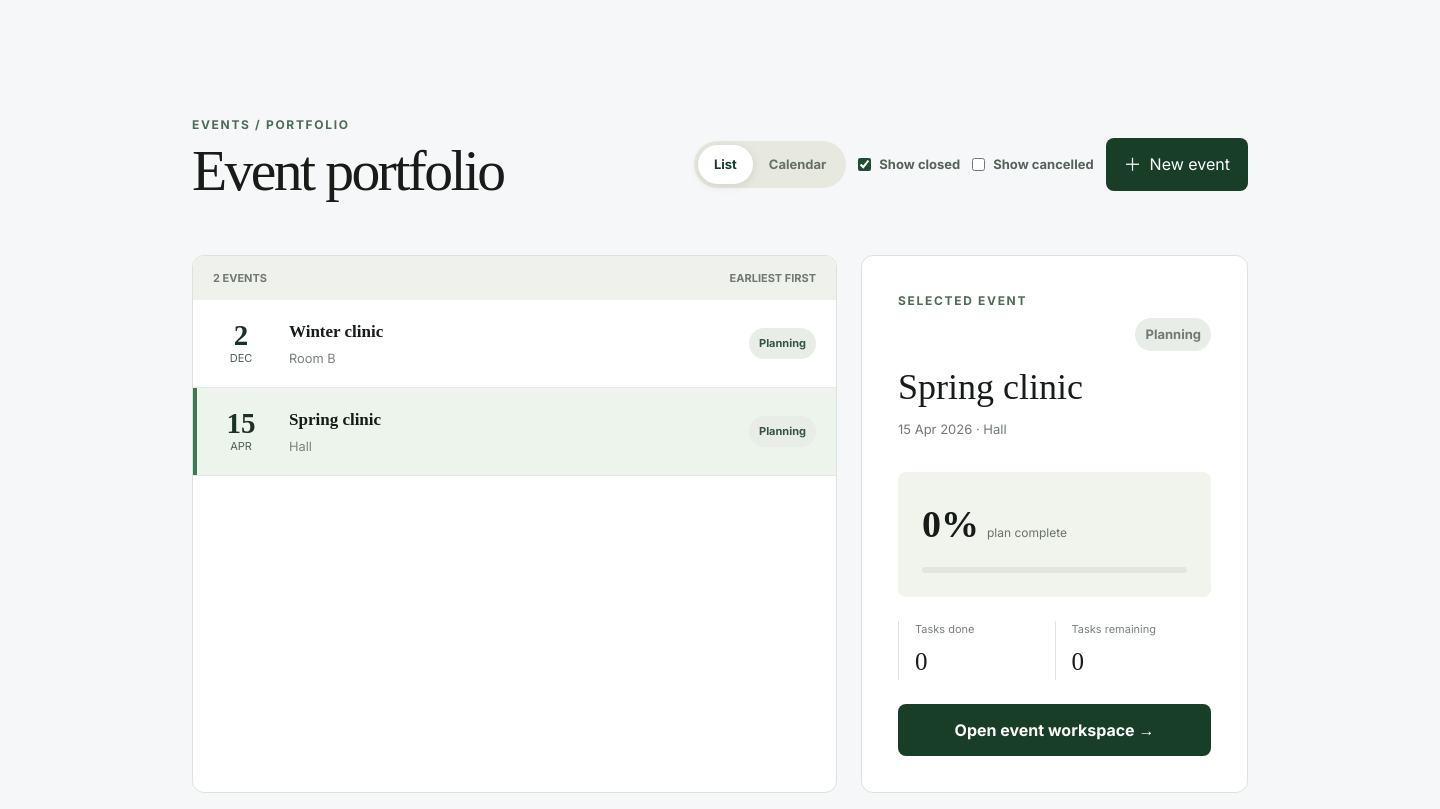
Test: API-backed organizer events › uses the production calendar for API-backed Events instead of the prototype demo window
The width and height of the screenshot is (1440, 809).
What coordinates should you click on to do the following:
click the button "Calendar"
I would click on:
 (798, 164)
Its box is [753,144,842,184].
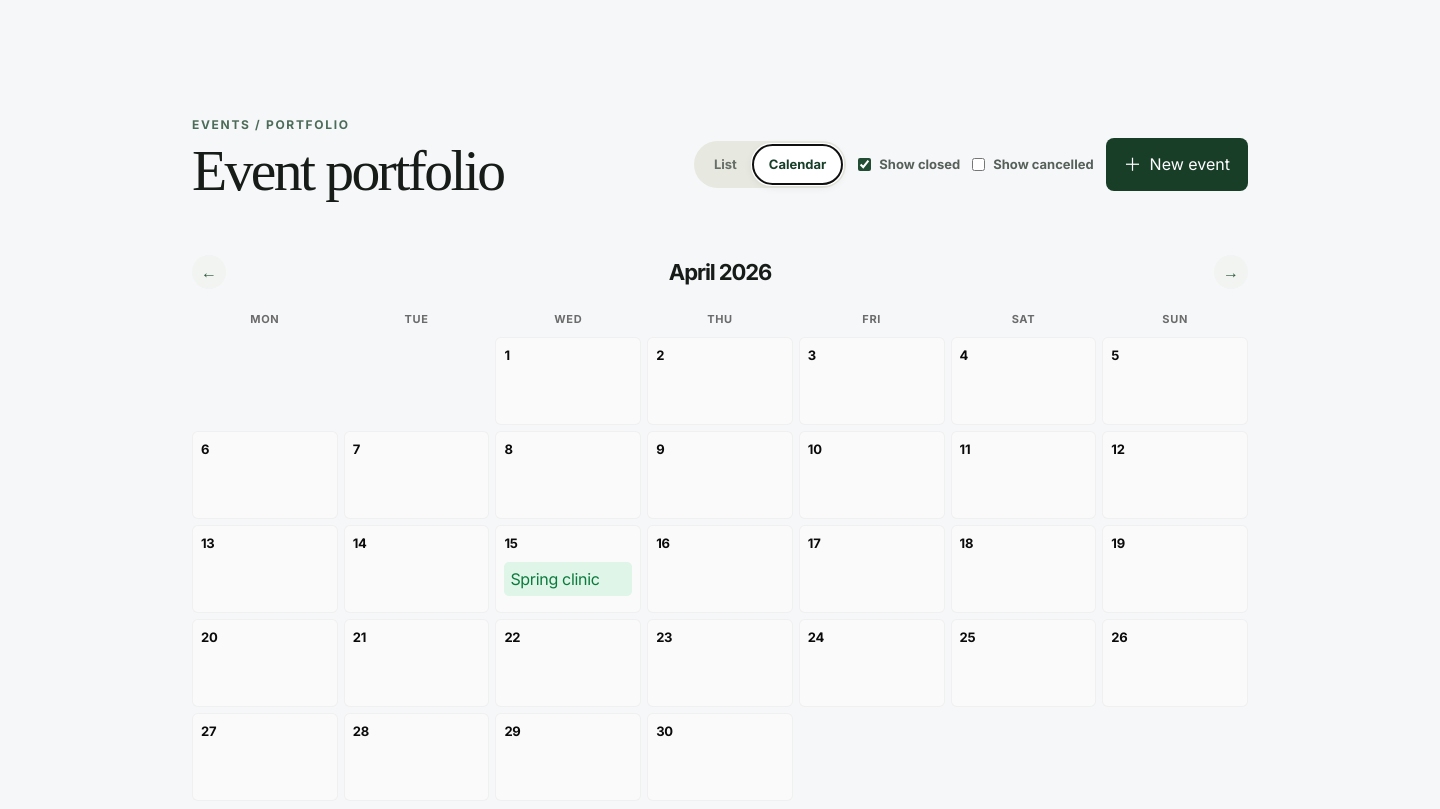
Expected: the button "Spring clinic" is shown, [504,562,632,596]
Expected: the heading "April 2026" is shown, [669,261,771,283]
What coordinates should you click on to do the following:
click the button named "Next month"
I would click on:
 (1231, 272)
Its box is [1214,255,1248,289].
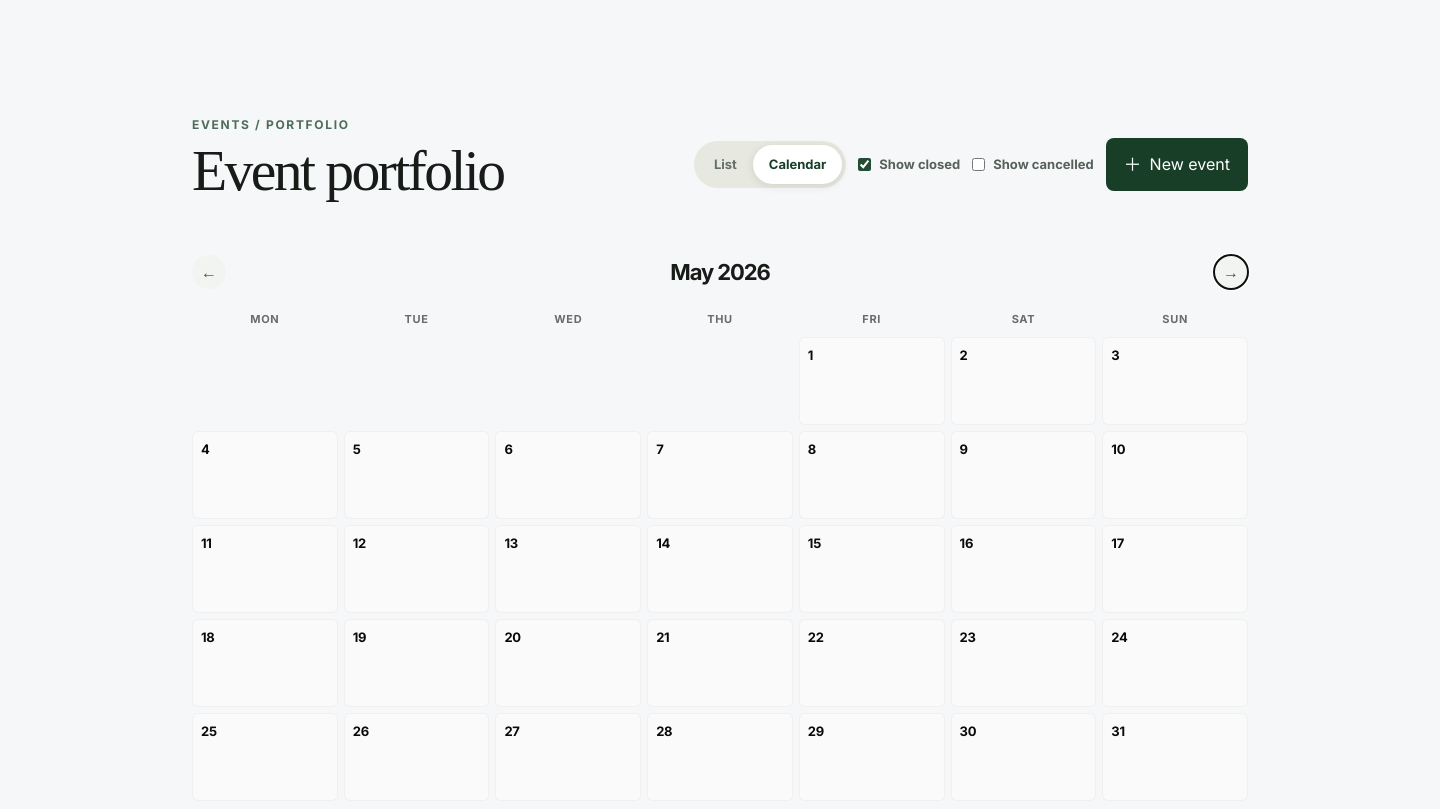
Expected: the heading "May 2026" is shown, [670,261,770,283]
What coordinates should you click on to do the following:
click the button named "Previous month"
I would click on:
 (209, 272)
Its box is [192,255,226,289].
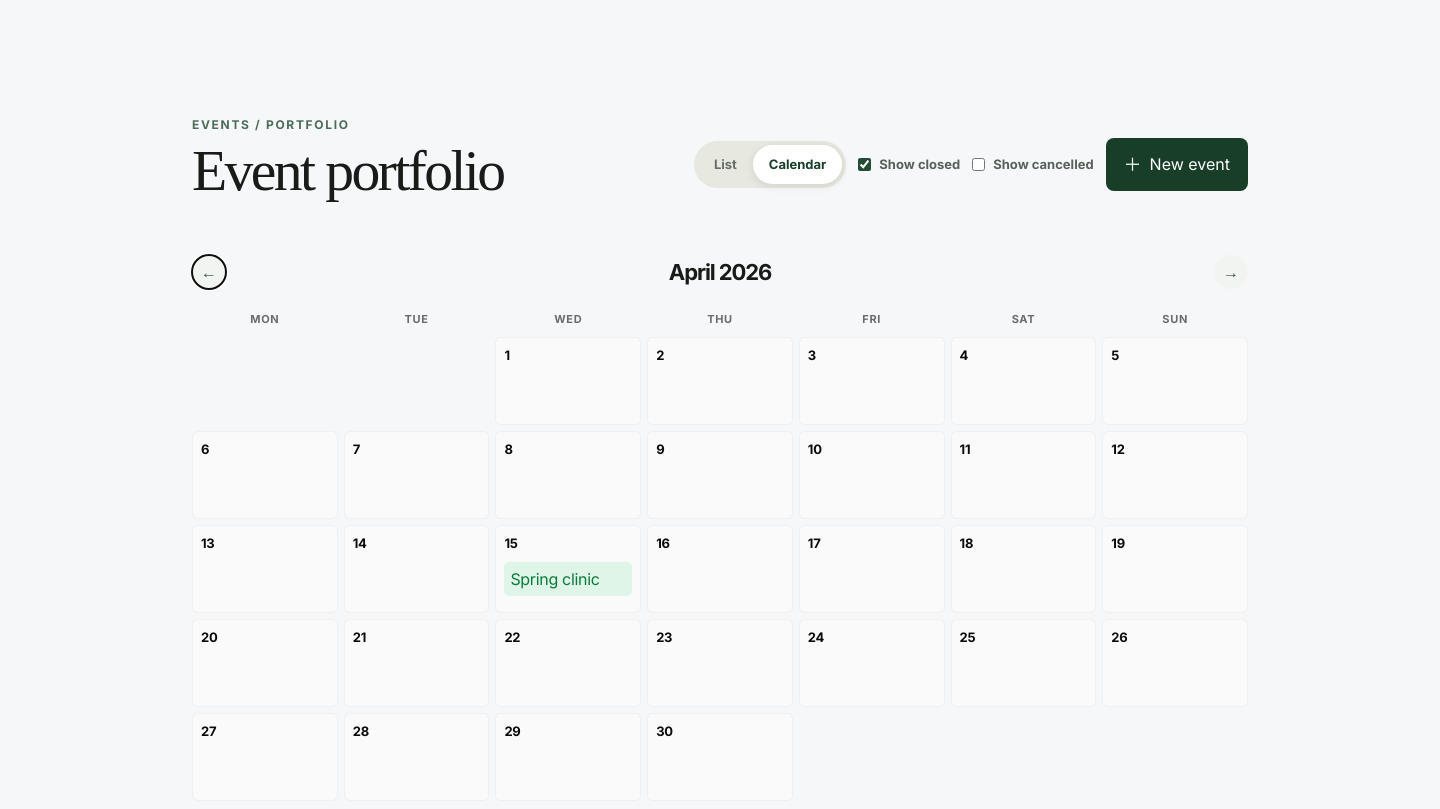
What coordinates should you click on to do the following:
click the button "Spring clinic"
I would click on:
 (568, 579)
Its box is [504,562,632,596].
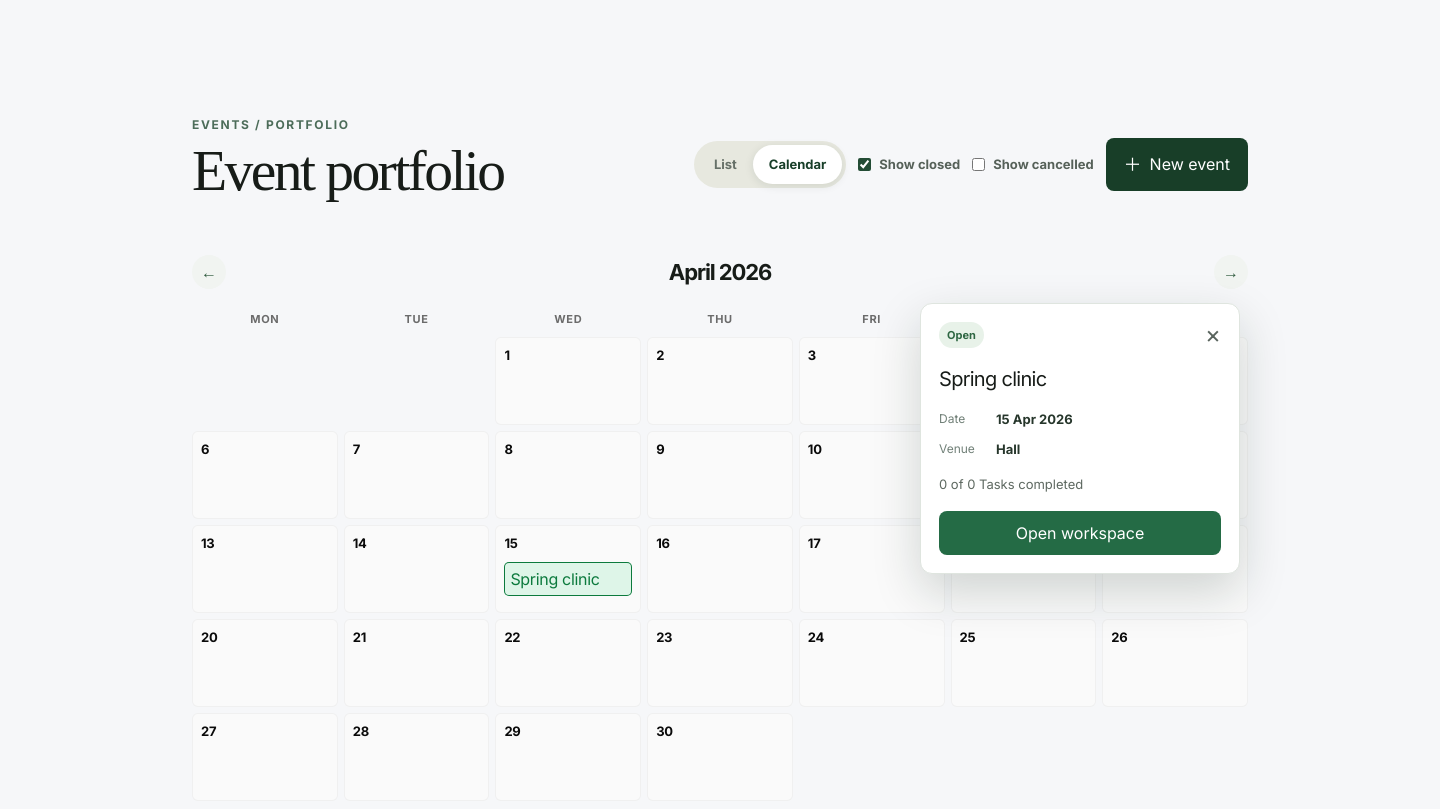
What coordinates should you click on to do the following:
click the button "Open workspace"
I would click on:
 (1080, 533)
Its box is [939,511,1221,555].
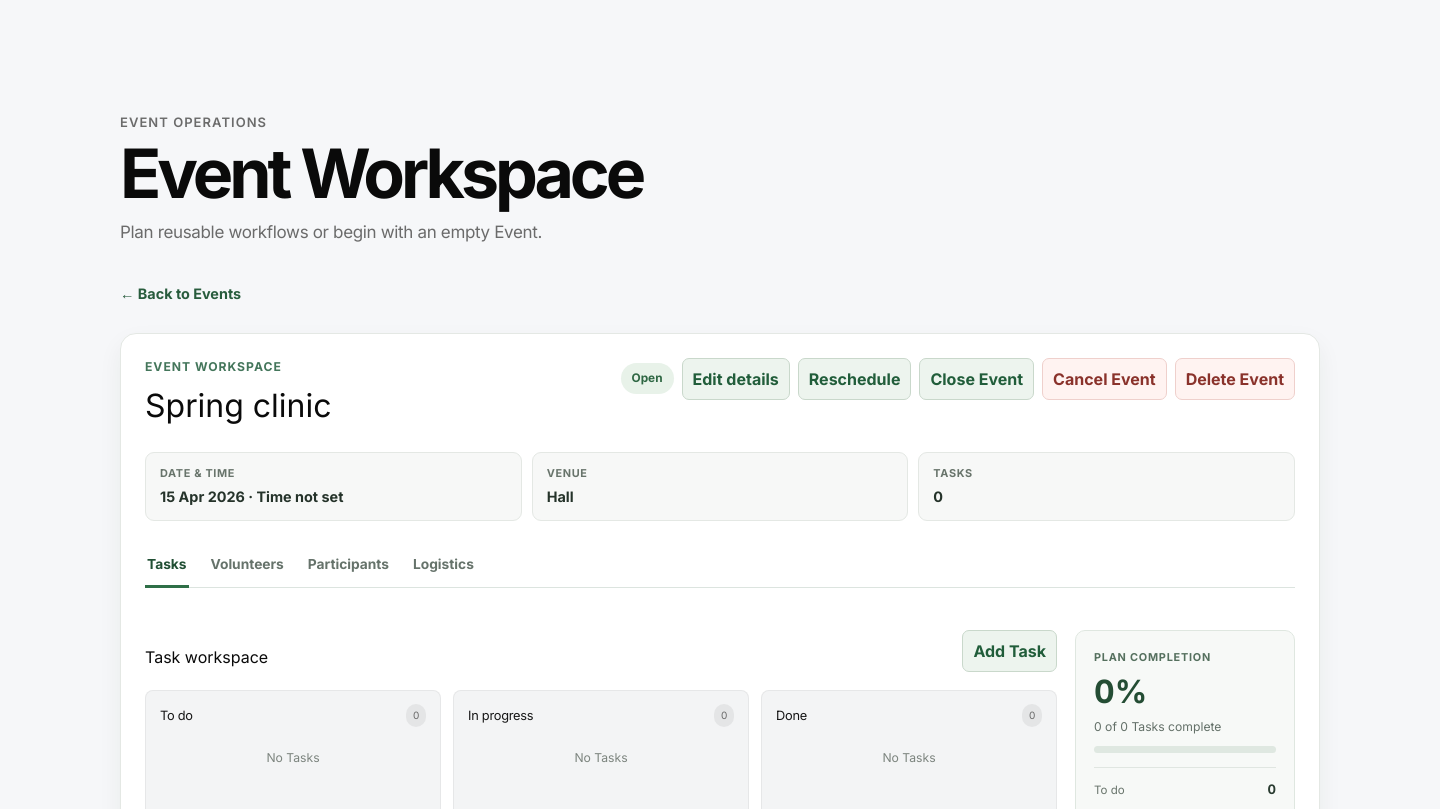
Expected: the heading "Spring clinic" is shown, [145,382,332,430]
Expected: the button "← Back to Events" is shown, [120,275,241,312]
